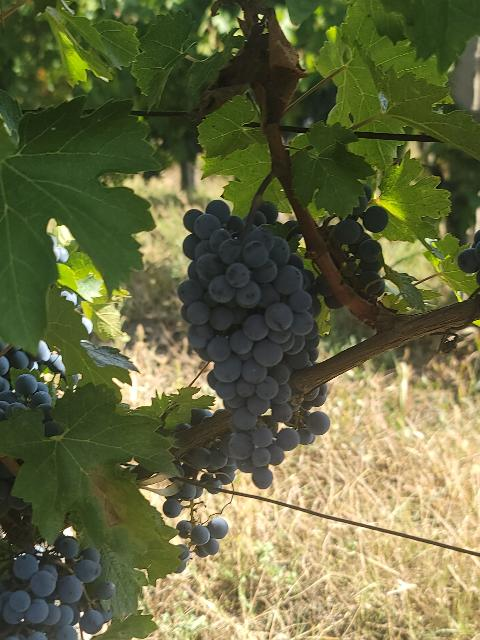grapes: (178, 200, 340, 486), (0, 534, 116, 640)
